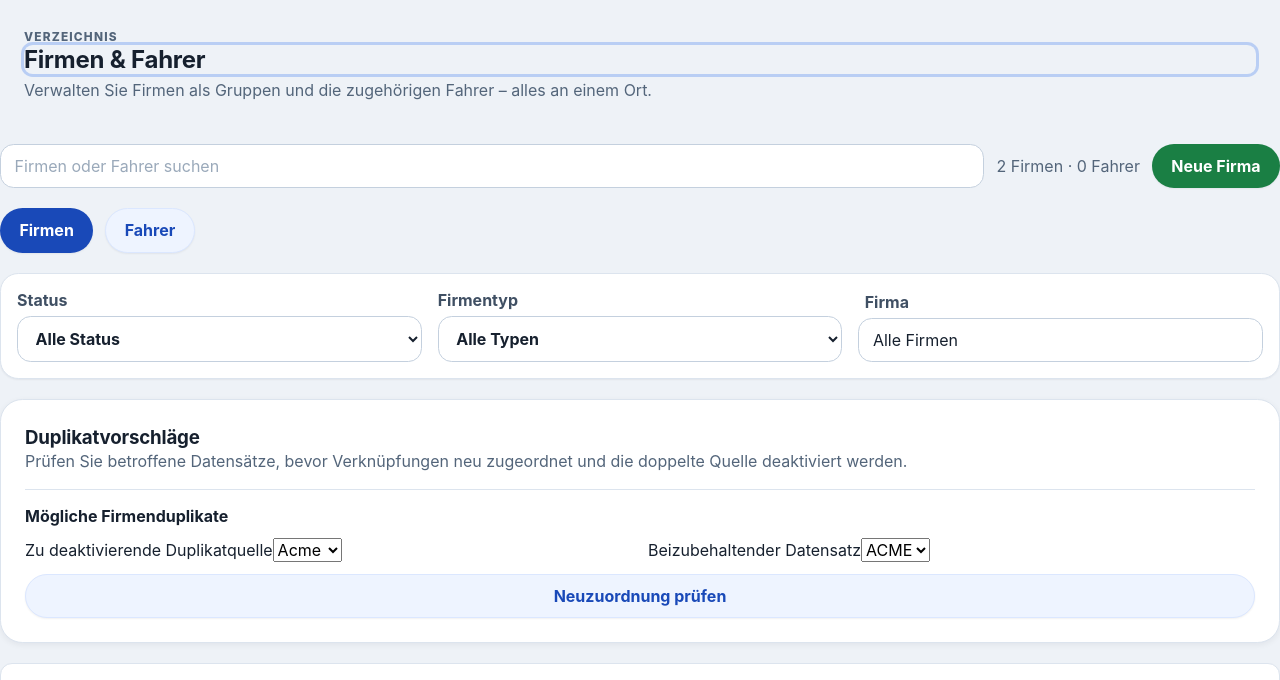
Scenario: PartnersPage › previews affected records and confirms duplicate merges with the server token
Check: the text "Mögliche Firmenduplikate" is shown, box [25,506,228,526]
Click the button "Neuzuordnung prüfen". click: {"x": 640, "y": 596}
box: [25,574,1255,618]
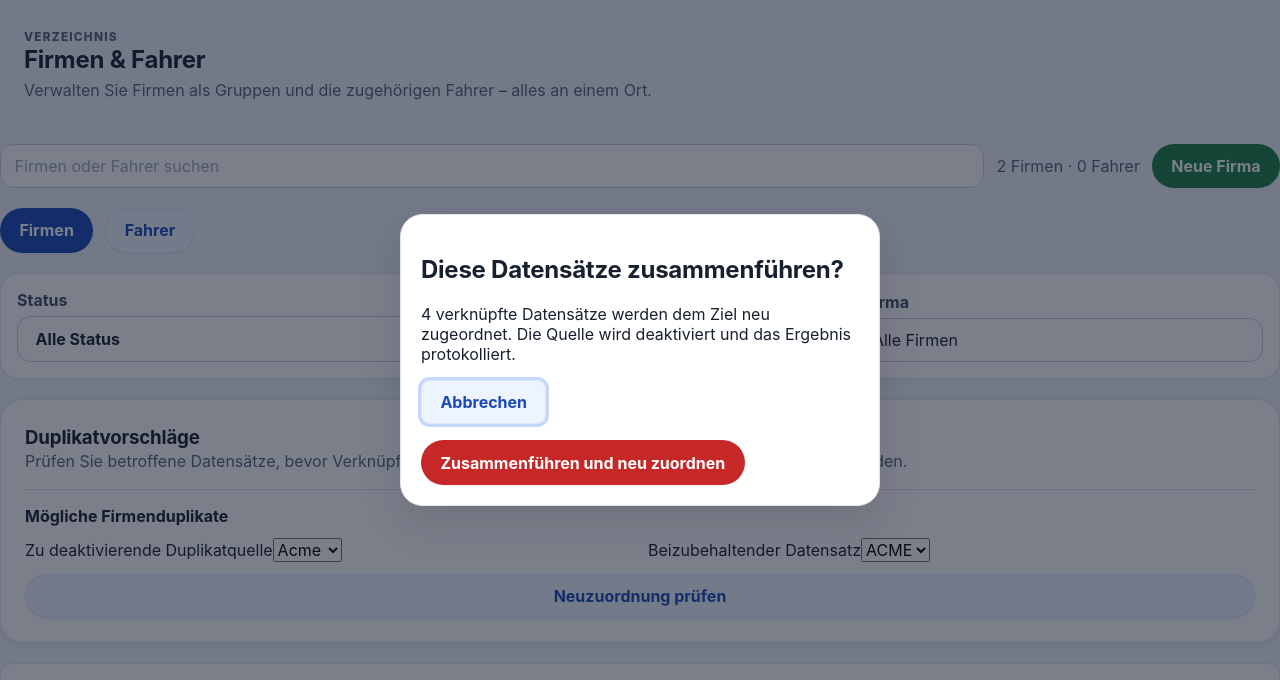
Check: the text "4 verknüpfte Datensätze" is shown, box [421,304,851,364]
Click the button "Zusammenführen und neu zuordnen". click: {"x": 583, "y": 463}
box: [421,440,745,485]
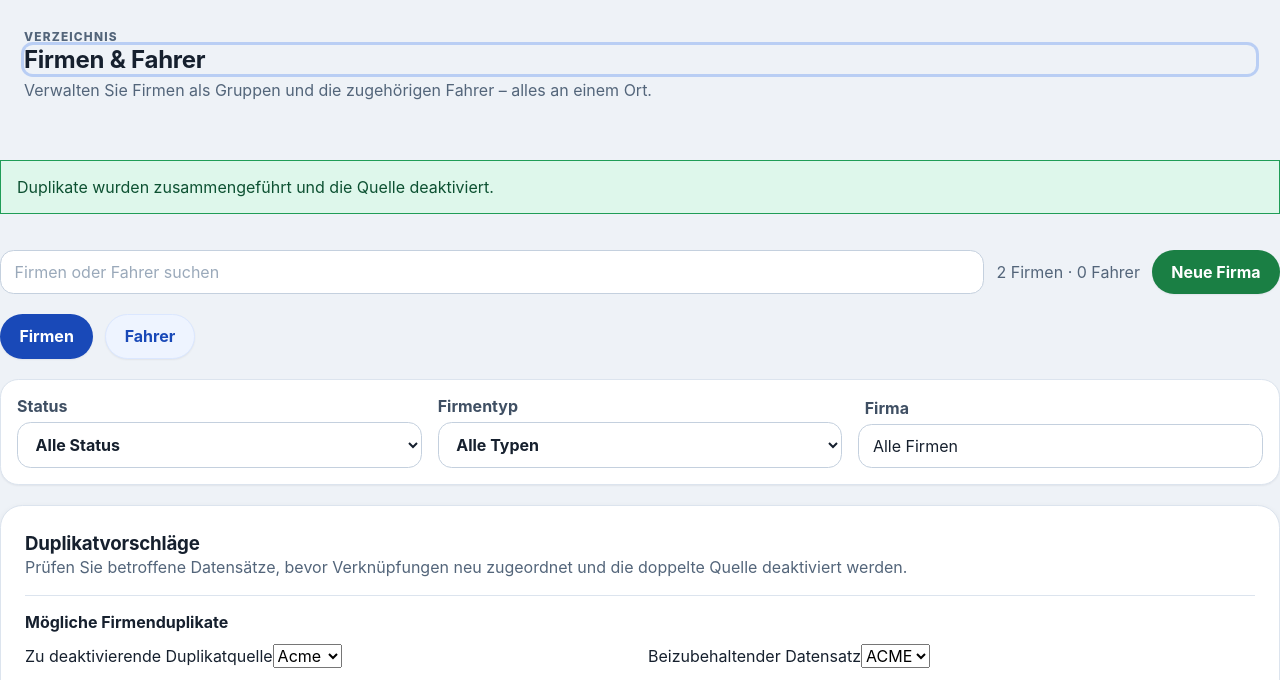
Check: the text "Duplikate wurden zusammengeführt und die Quelle deaktiviert." is shown, box [0,160,1279,214]
